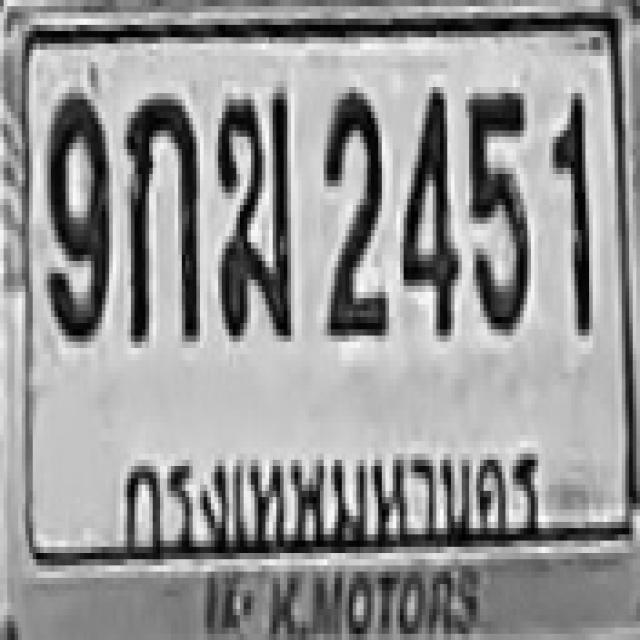1: (549, 84, 589, 332)
10GorGai: (124, 87, 196, 336)
15KhorRaKhang: (215, 87, 287, 336)
2: (320, 84, 385, 332)
4: (400, 81, 458, 329)
5: (466, 84, 528, 332)
9: (44, 87, 106, 336)
Bangkok: (118, 422, 552, 570)
